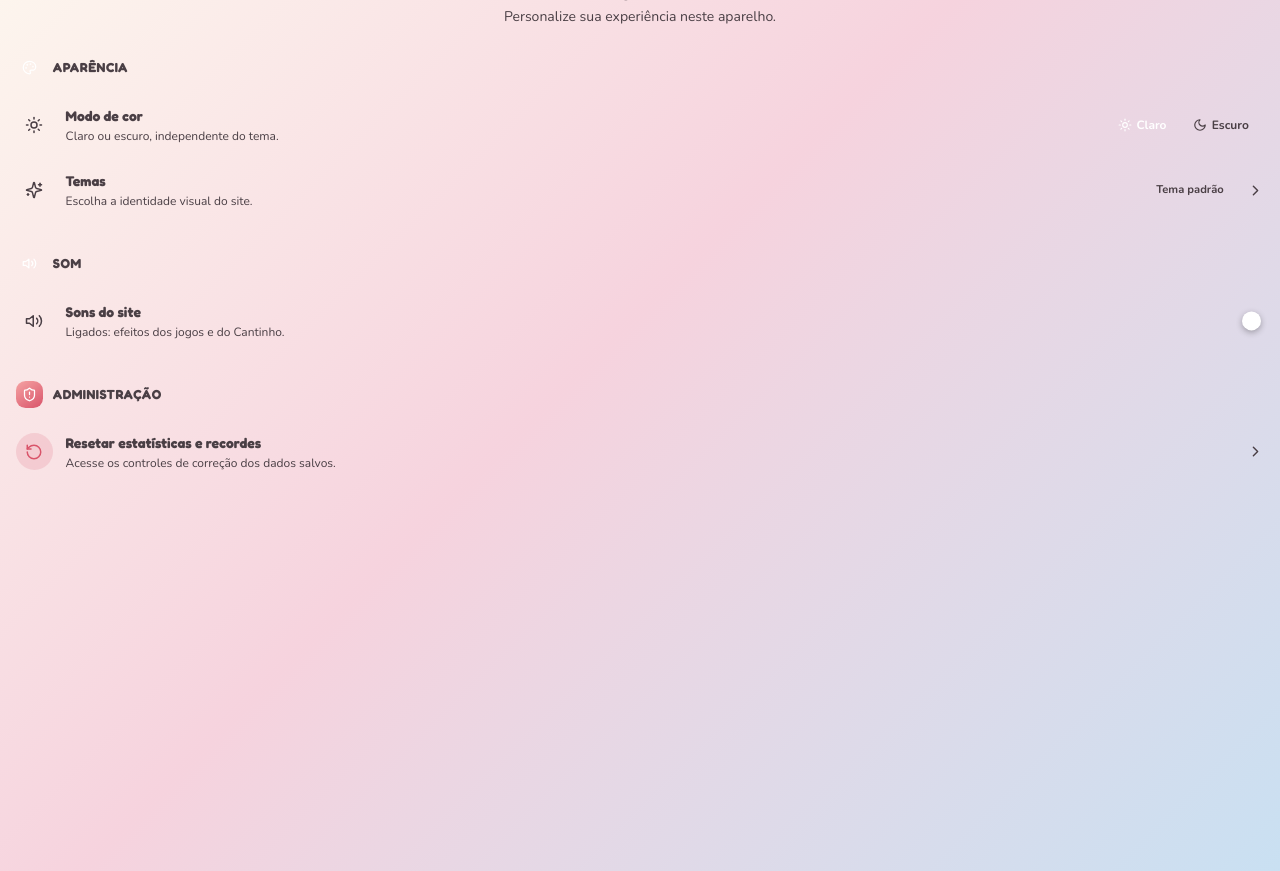
Configurações e temas › mostra os três resets do cantinho somente dentro das configurações de andre
The width and height of the screenshot is (1280, 871).
Click the button "Resetar estatísticas e recordes" at x=34, y=452, box [0,419,1279,484]
(page scrolled)
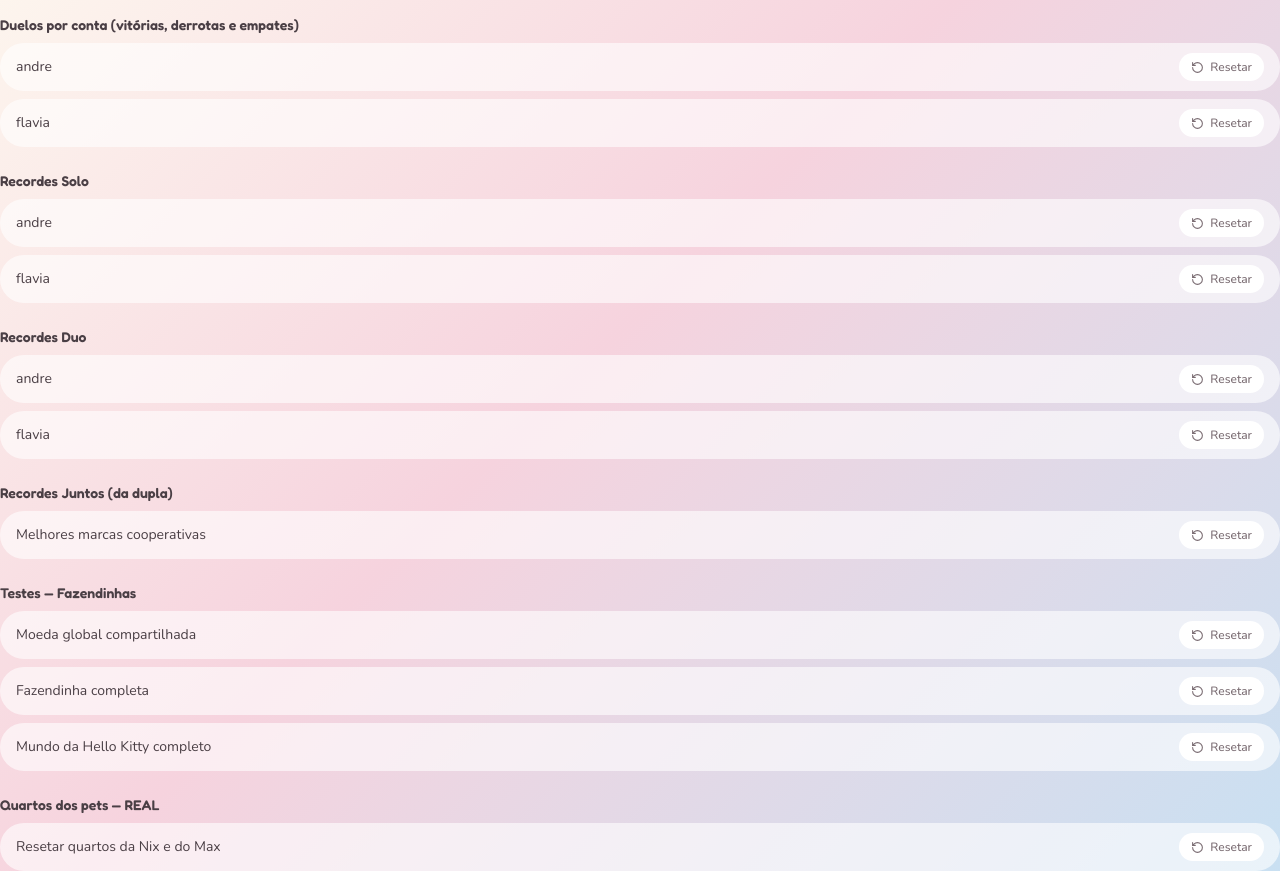
Now the heading "Testes — Fazendinhas" is shown, box [0,584,136,601]
Now the text "Moeda global compartilhada" is shown, box [16,625,196,645]
Now the text "Fazendinha completa" is shown, box [16,681,149,701]
